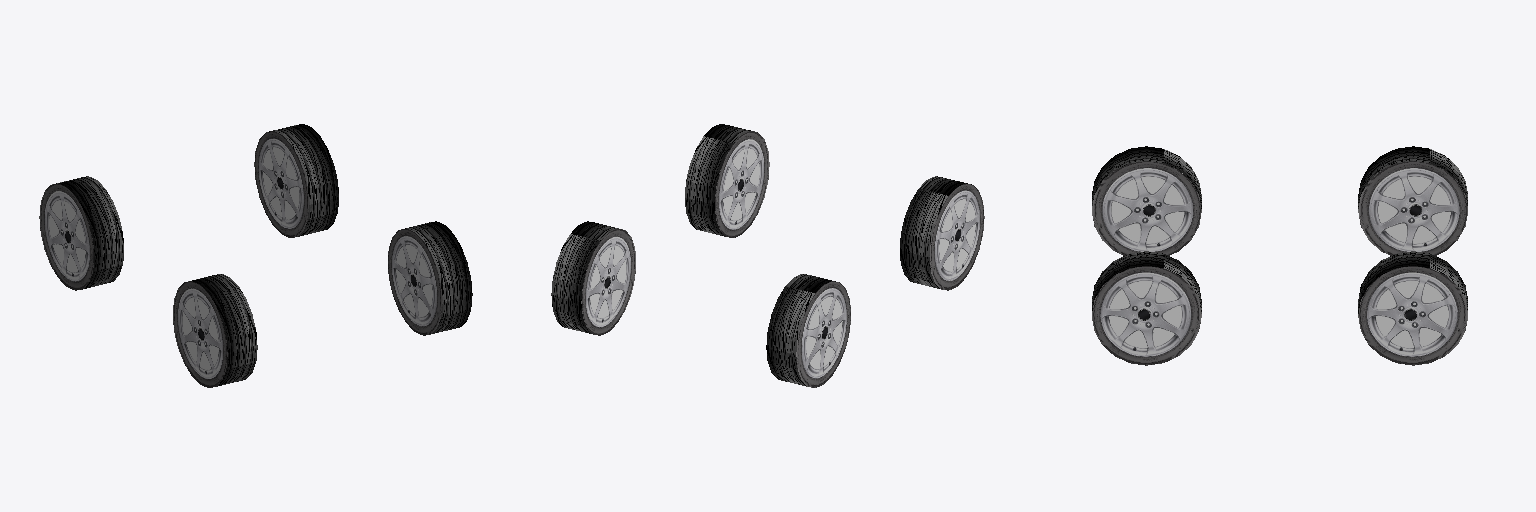
The picture shows the model from 3 angles: view 1: azimuth 30°, elevation 25°; view 2: azimuth 150°, elevation 25°; view 3: azimuth 270°, elevation 25°; orthographic projection.
Visible parts, largest first — view 1: polySurface1, polySurface4, polySurface2, polySurface3; view 2: polySurface2, polySurface3, polySurface1, polySurface4; view 3: polySurface3, polySurface1, polySurface2, polySurface4.
Part boxes in pixels (x1,y1,x2,y2): polySurface1: (388, 221, 472, 335); polySurface4: (39, 176, 123, 290); polySurface2: (173, 274, 257, 387); polySurface3: (254, 124, 338, 237); polySurface2: (900, 176, 984, 290); polySurface3: (551, 221, 635, 335); polySurface1: (685, 124, 769, 237); polySurface4: (766, 274, 850, 387); polySurface3: (1358, 251, 1467, 365); polySurface1: (1092, 251, 1201, 365); polySurface2: (1092, 146, 1201, 255); polySurface4: (1358, 146, 1467, 255).
Bounding box in the file's own units: 2.85 × 1.11 × 3.8.
Materials: 1 (1 with a texture image).